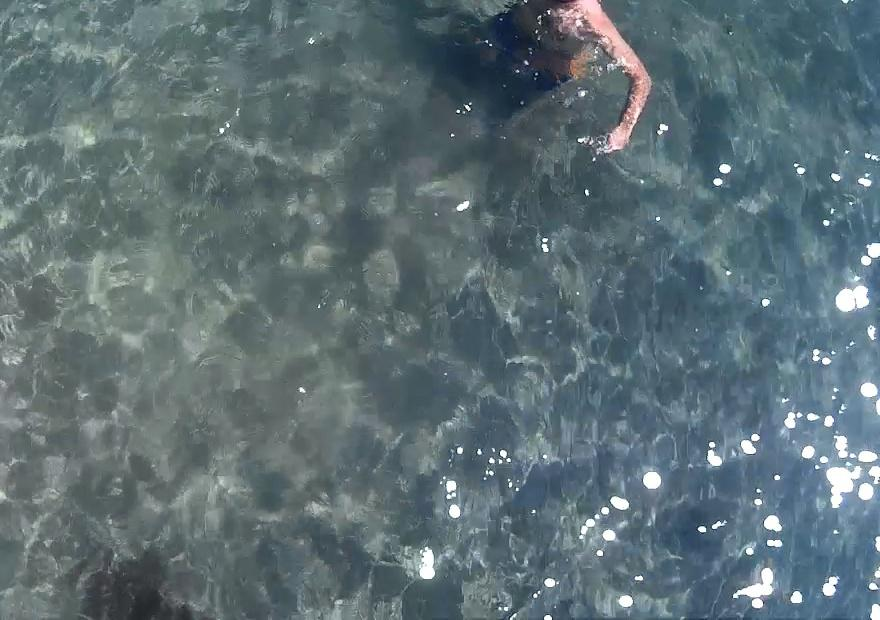human: (433, 0, 644, 178)
